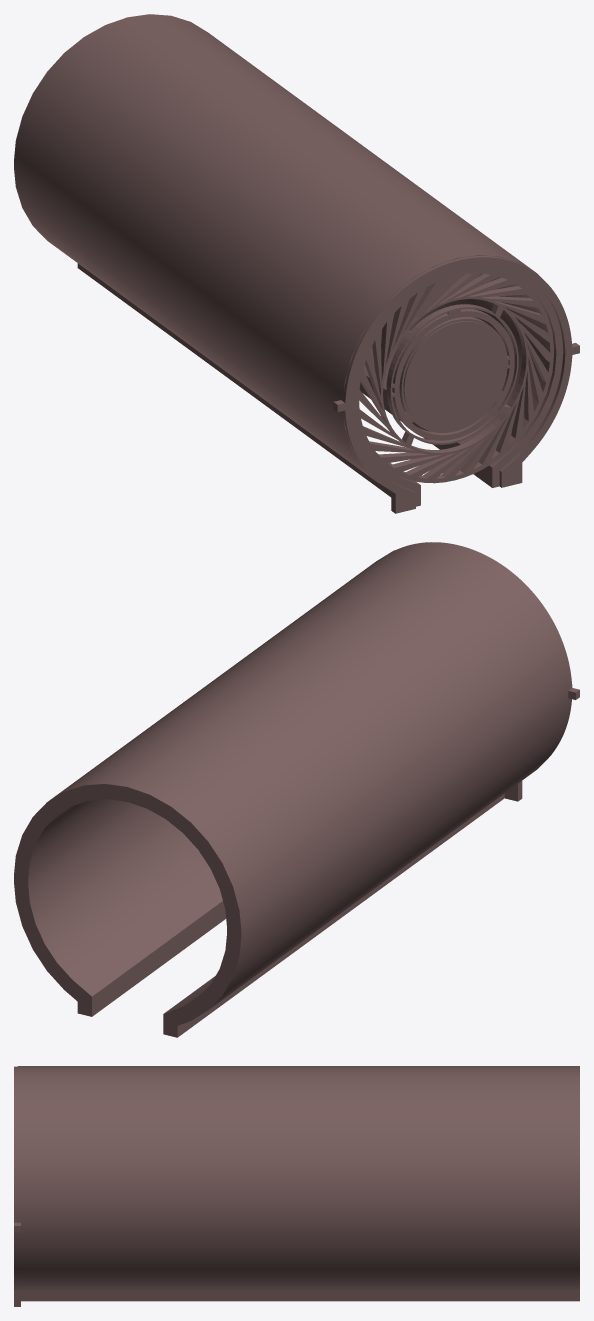
Rendered from Back Wall_door.fbx.
3 renders of one model, top to bottom at view 1: azimuth 30°, elevation 25°; view 2: azimuth 150°, elevation 25°; view 3: azimuth 270°, elevation 25°, orthographic. The views are drawn at different scales.
Visible parts, largest first — view 1: Circle.029, Circle.027, Circle.031, Circle.030; view 2: Circle.029, Circle.030; view 3: Circle.029, Circle.030.
Boxes of the visible parts, x1,y1,x2,y2 form: Circle.029: [14, 14, 563, 506]; Circle.027: [357, 270, 553, 483]; Circle.031: [403, 321, 508, 431]; Circle.030: [333, 256, 579, 513]; Circle.029: [14, 543, 570, 1037]; Circle.030: [397, 542, 579, 801]; Circle.029: [17, 1066, 579, 1301]; Circle.030: [14, 1066, 20, 1306].
Bounding box in the file's own units: 8.5 × 8 × 20.13.
